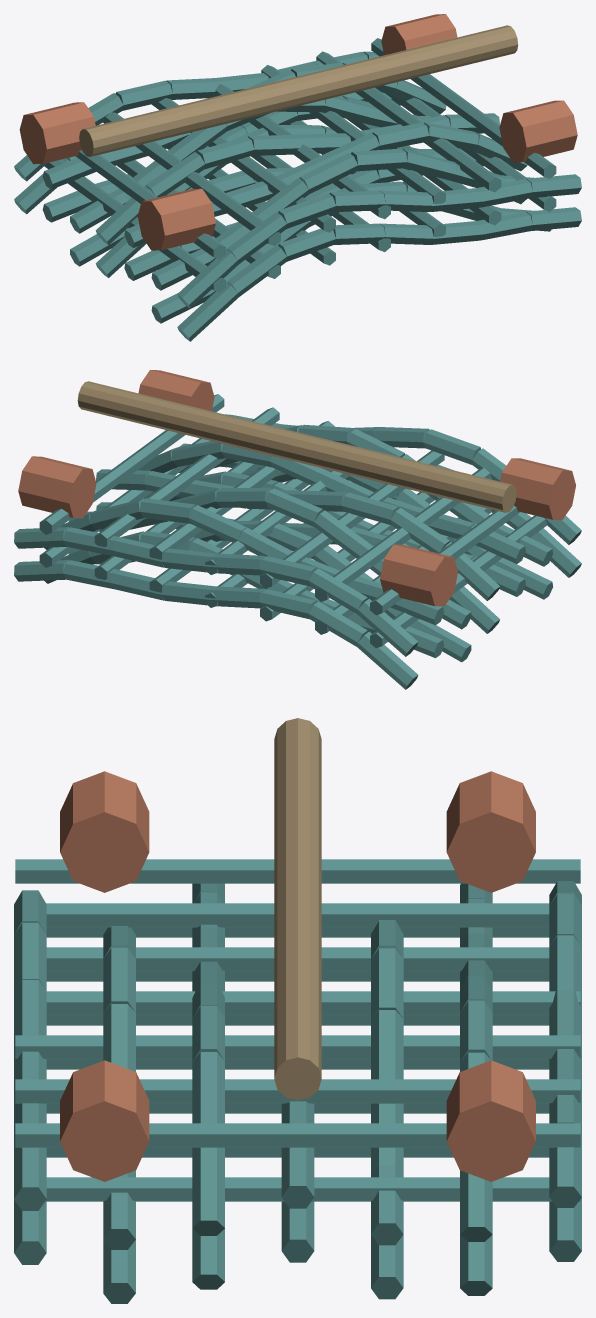
File: net.glb
3 renders of one model, top to bottom at view 1: azimuth 30°, elevation 25°; view 2: azimuth 150°, elevation 25°; view 3: azimuth 270°, elevation 25°, orthographic. The views are drawn at different scales.
Visible parts, largest first — view 1: Trash_surface; view 2: Trash_surface; view 3: Trash_surface.
Boxes of the visible parts, bbox=[...] form: Trash_surface: bbox=[14, 14, 581, 341]; Trash_surface: bbox=[14, 370, 581, 689]; Trash_surface: bbox=[14, 718, 581, 1303].
Bounding box in the file's own units: 0.54 × 0.1937 × 0.382.
